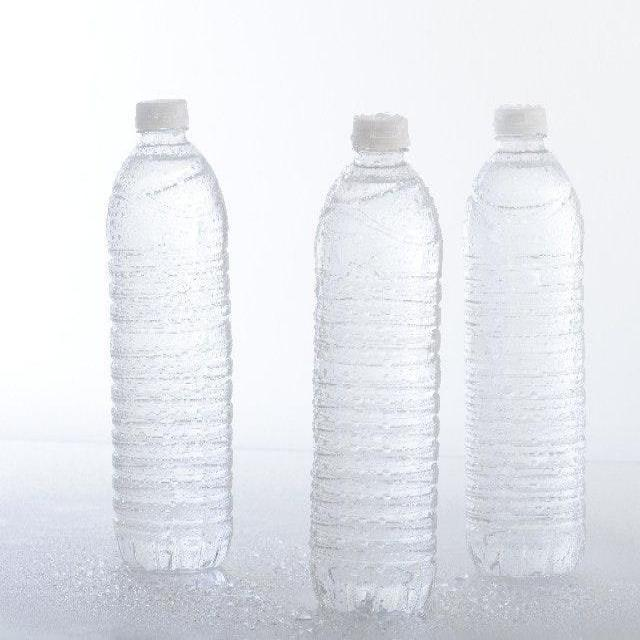bottle: (299, 94, 453, 597), (92, 93, 239, 589), (452, 96, 597, 589)
